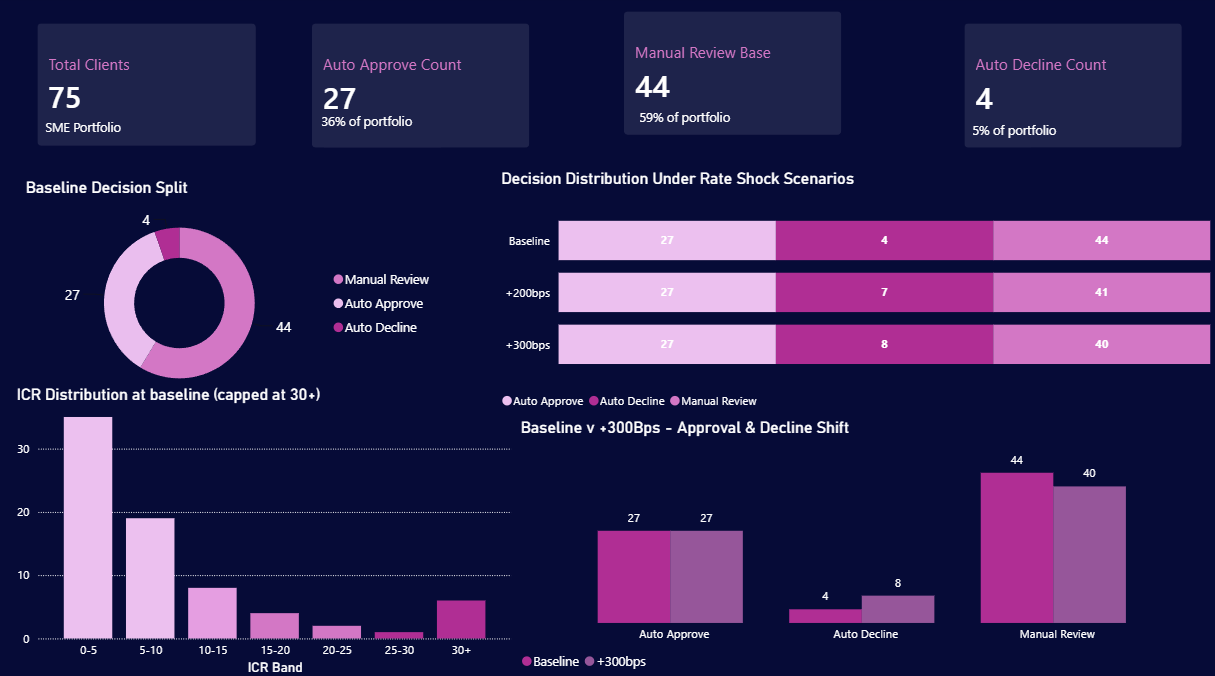

The page's visual inventory and layout, read from the dashboard file:
{"tool":"powerbi","page":{"name":"Portfolio Insights","canvas":[1280,720],"ordinal":0},"visuals":[{"type":"donutChart","title":"Baseline Decision Split","fields":{"Category":["credit_risk_data.Baseline_Decision"],"Y":["credit_risk_data.Total Clients"]},"box":[22.1,192.6,443.7,243.2],"z":0},{"type":"cardVisual","title":"Total KPI","fields":{"Data":["CountNonNull(credit_risk_data.Client_ID)"]},"box":[22.7,12.1,265,163.5],"z":1000,"group":"g2"},{"type":"hundredPercentStackedBarChart","title":"Decision Distribution Under Rate Shock Scenarios","fields":{"Y":["CountNonNull(Scenario Summary.Count)"],"Series":["Scenario Summary.Decision"],"Category":["Order.Order"]},"box":[522.6,183.2,756.3,262.1],"z":1000},{"type":"cardVisual","title":"Auto Approve KPI","fields":{"Data":["credit_risk_data.Auto Approve Count"]},"box":[311.9,12.1,263.5,165],"z":2000,"group":"g1"},{"type":"clusteredColumnChart","title":"ICR Distribution at baseline (capped at 30+)","fields":{"Y":["CountNonNull(credit_risk_data.ICR Band)"],"Category":["Band Order.Band Order ICR"]},"box":[12.6,410.5,530.5,309.5],"z":2000},{"type":"cardVisual","title":"Manual Review KPI","fields":{"Data":["credit_risk_data.Manual Review Count"]},"box":[640.5,0,263.7,164.2],"z":3000,"group":"g3"},{"type":"clusteredColumnChart","title":"Baseline v +300Bps - Approval & Decline Shift","fields":{"Category":["Shock Comparison.Decision"],"Y":["Sum(Shock Comparison.Count)"],"Series":["Shock Comparison.Scenario"]},"box":[543.2,445.3,735.8,274.7],"z":3000},{"type":"group","id":"g1","title":"Auto approve","box":[311.9,12.1,263.5,165],"z":4000,"group":"g6"},{"type":"cardVisual","title":"Auto Decline KPI","fields":{"Data":["credit_risk_data.Auto Decline Count"]},"box":[997.8,12.1,263.5,165],"z":4000,"group":"g4"},{"type":"group","id":"g2","title":"Total Portfolio","box":[22.7,12.1,265,163.5],"z":5000,"group":"g6"},{"type":"textbox","title":"36% of portfolio","box":[333.2,117.8,115.5,36.6],"z":5000,"group":"g1"},{"type":"group","id":"g3","title":"Manual Review","box":[640.5,0,263.7,164.2],"z":6000,"group":"g6"},{"type":"textbox","title":"SME portfolio","box":[42.5,124.7,123.4,30.8],"z":6000,"group":"g2"},{"type":"group","id":"g4","title":"Auto Decline","box":[997.8,12.1,263.5,165],"z":7000,"group":"g6"},{"type":"textbox","title":"59% of portfolio","box":[668.6,113.8,110.5,29.6],"z":7000,"group":"g3"},{"type":"group","id":"g5","title":"KPI Cards","box":[22.7,0,1238.6,177.2],"z":7001},{"type":"group","id":"g6","title":"Group 1","box":[22.7,0,1238.6,177.2],"z":7002,"group":"g5"},{"type":"textbox","title":"5% of portfolio","box":[1018.7,127.3,111.7,28.9],"z":8000,"group":"g4"}]}

Visuals, with their boxes in screenshot pixels (x1, y1, x2, y2), scaled from the page's 1280x720 canvas onto the 1215x676 screenshot:
"Baseline Decision Split" donutChart: <region>21, 181, 442, 409</region>
"Total KPI" cardVisual: <region>22, 11, 273, 165</region>
"Decision Distribution Under Rate Shock Scenarios" hundredPercentStackedBarChart: <region>496, 172, 1214, 418</region>
"Auto Approve KPI" cardVisual: <region>296, 11, 546, 166</region>
"ICR Distribution at baseline (capped at 30+)" clusteredColumnChart: <region>12, 385, 516, 675</region>
"Manual Review KPI" cardVisual: <region>608, 0, 858, 154</region>
"Baseline v +300Bps - Approval & Decline Shift" clusteredColumnChart: <region>516, 418, 1214, 675</region>
"Auto approve" group: <region>296, 11, 546, 166</region>
"Auto Decline KPI" cardVisual: <region>947, 11, 1197, 166</region>
"Total Portfolio" group: <region>22, 11, 273, 165</region>
"36% of portfolio" textbox: <region>316, 111, 426, 145</region>
"Manual Review" group: <region>608, 0, 858, 154</region>
"SME portfolio" textbox: <region>40, 117, 157, 146</region>
"Auto Decline" group: <region>947, 11, 1197, 166</region>
"59% of portfolio" textbox: <region>635, 107, 740, 135</region>
"KPI Cards" group: <region>22, 0, 1197, 166</region>
"Group 1" group: <region>22, 0, 1197, 166</region>
"5% of portfolio" textbox: <region>967, 120, 1073, 147</region>
